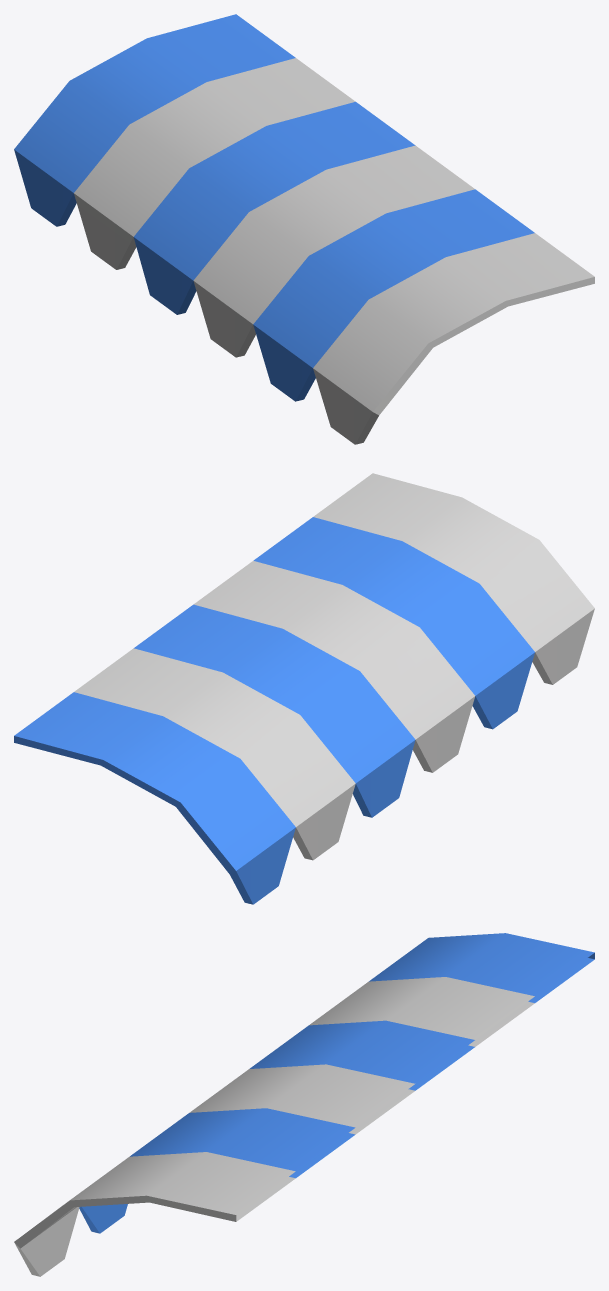
File: Awning_3_H.glb
3 renders of one model, top to bottom at view 1: azimuth 30°, elevation 25°; view 2: azimuth 150°, elevation 25°; view 3: azimuth 330°, elevation 25°, orthographic.
Parts seen in each view (by area): view 1: Awning_3_H; view 2: Awning_3_H; view 3: Awning_3_H.
Part boxes in pixels (x1,y1,x2,y2): Awning_3_H: [14, 14, 594, 444]; Awning_3_H: [14, 473, 594, 904]; Awning_3_H: [14, 933, 594, 1276].
Bounding box in the file's own units: 0.9994 × 0.5472 × 2.8.
2 materials, 2 textured.
